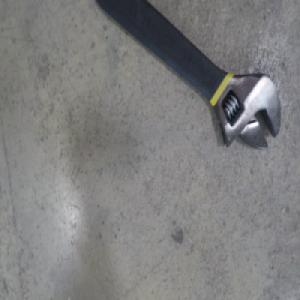AdjustableWrench: (94, 0, 278, 153)
